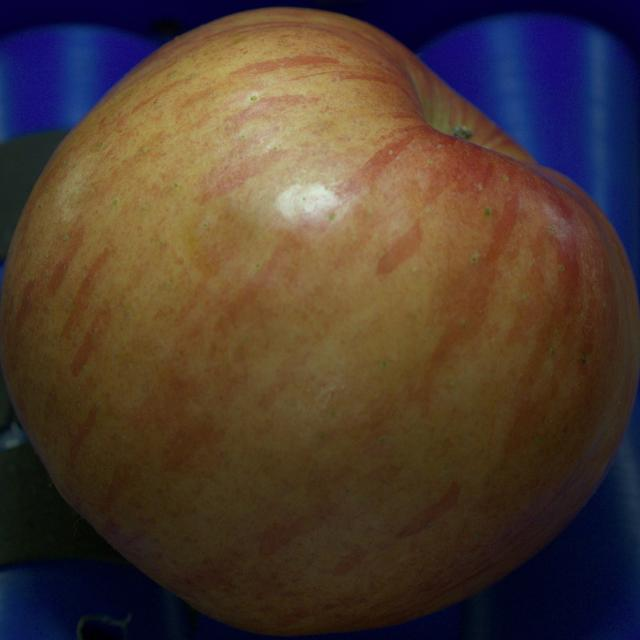apple: (0, 9, 639, 634)
bruise: (162, 209, 270, 293)
